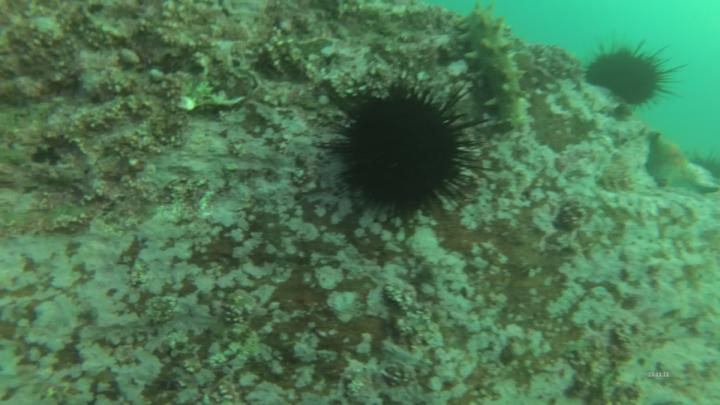echinus: (323, 68, 489, 228), (585, 37, 691, 109)
holothurian: (453, 1, 539, 136)
starfish: (644, 130, 720, 199)
